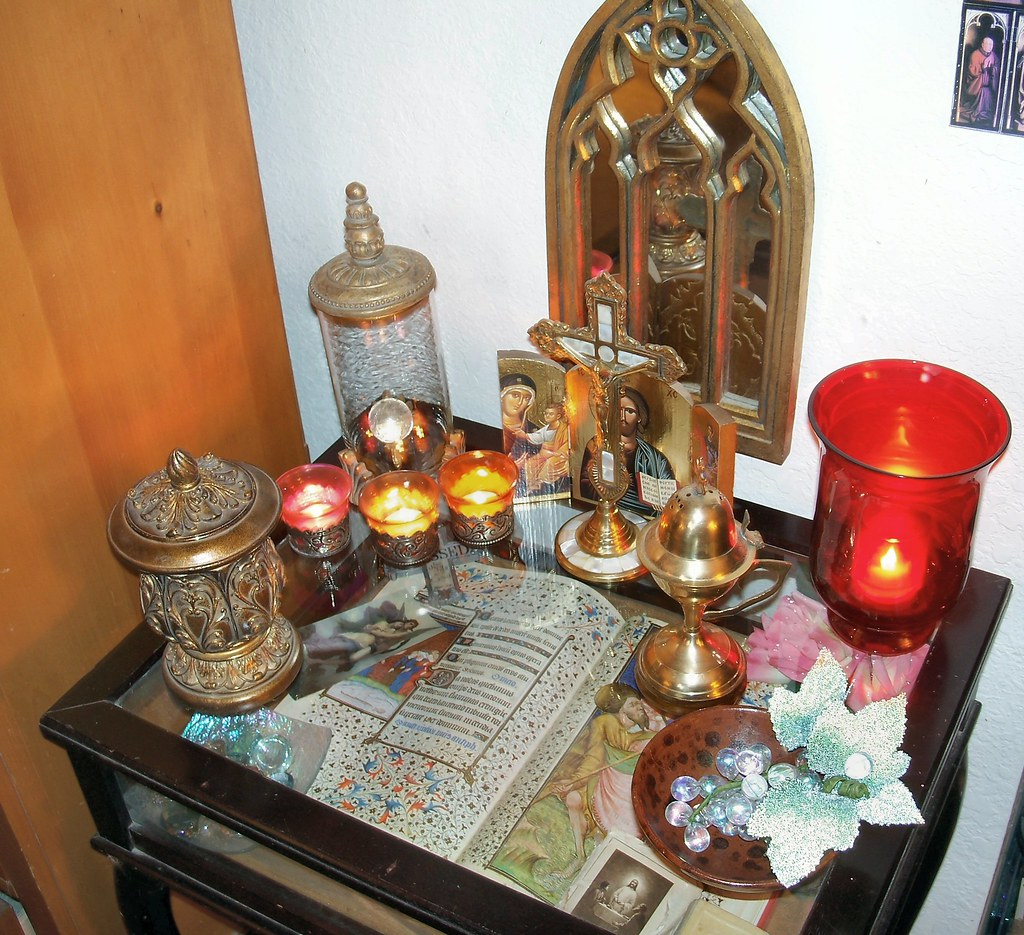Open-Flame-Hazard: (806, 336, 1019, 658), (263, 424, 534, 578)
